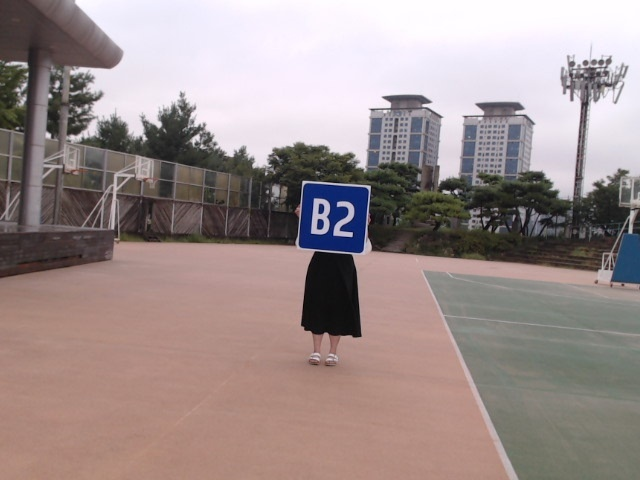delivery_b2: (298, 181, 369, 255)
